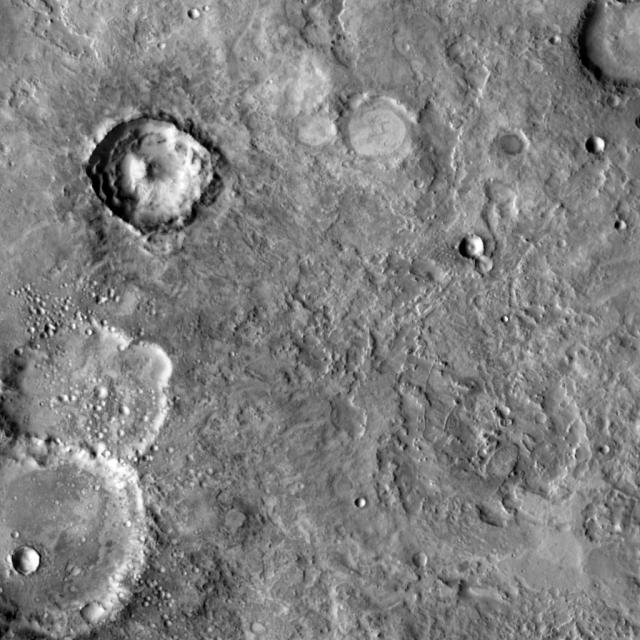crater: (0, 434, 151, 639), (6, 321, 172, 475), (94, 119, 215, 231), (346, 93, 425, 165), (580, 0, 640, 92), (125, 340, 182, 393), (498, 131, 536, 166), (18, 549, 46, 575), (463, 235, 489, 259), (88, 602, 110, 624), (592, 136, 612, 156), (480, 258, 496, 273), (418, 552, 433, 567), (615, 94, 631, 108), (99, 386, 112, 397), (502, 407, 514, 417), (194, 8, 205, 18), (125, 408, 136, 418), (622, 220, 632, 230), (258, 624, 268, 634), (362, 499, 372, 508), (606, 446, 615, 456), (419, 178, 429, 187), (161, 590, 171, 599), (555, 38, 565, 46), (64, 396, 74, 404), (154, 444, 164, 452), (16, 532, 25, 540), (562, 239, 570, 247), (163, 438, 171, 446), (400, 35, 408, 42), (122, 428, 129, 436), (156, 558, 163, 566), (128, 520, 135, 527), (197, 566, 204, 573), (66, 578, 73, 585), (162, 585, 170, 591), (168, 620, 176, 626), (156, 35, 162, 42), (35, 302, 42, 308), (42, 317, 49, 323), (146, 302, 153, 308), (498, 308, 505, 314), (139, 594, 146, 600), (92, 398, 98, 404), (94, 425, 100, 431)
